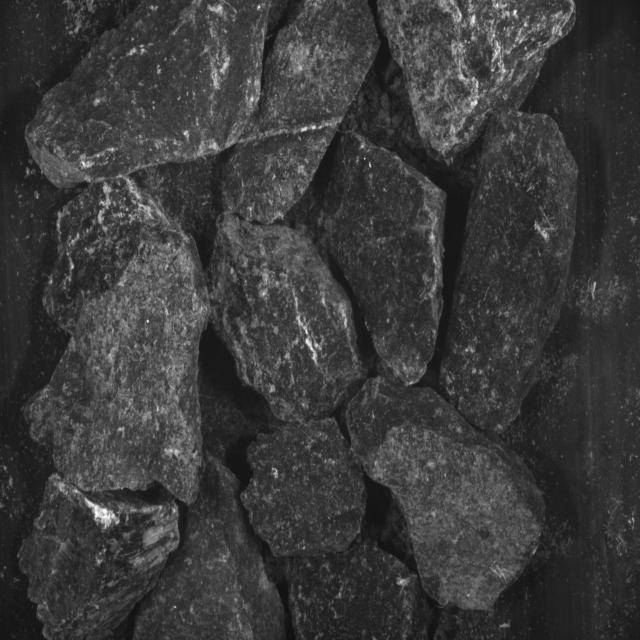Stones: (27, 178, 210, 503), (347, 378, 546, 610), (26, 1, 269, 188), (441, 112, 579, 433), (222, 1, 380, 224), (209, 213, 367, 423), (320, 132, 447, 387), (379, 1, 576, 164), (135, 458, 286, 640), (20, 474, 181, 640), (242, 419, 367, 558), (290, 542, 422, 640)
